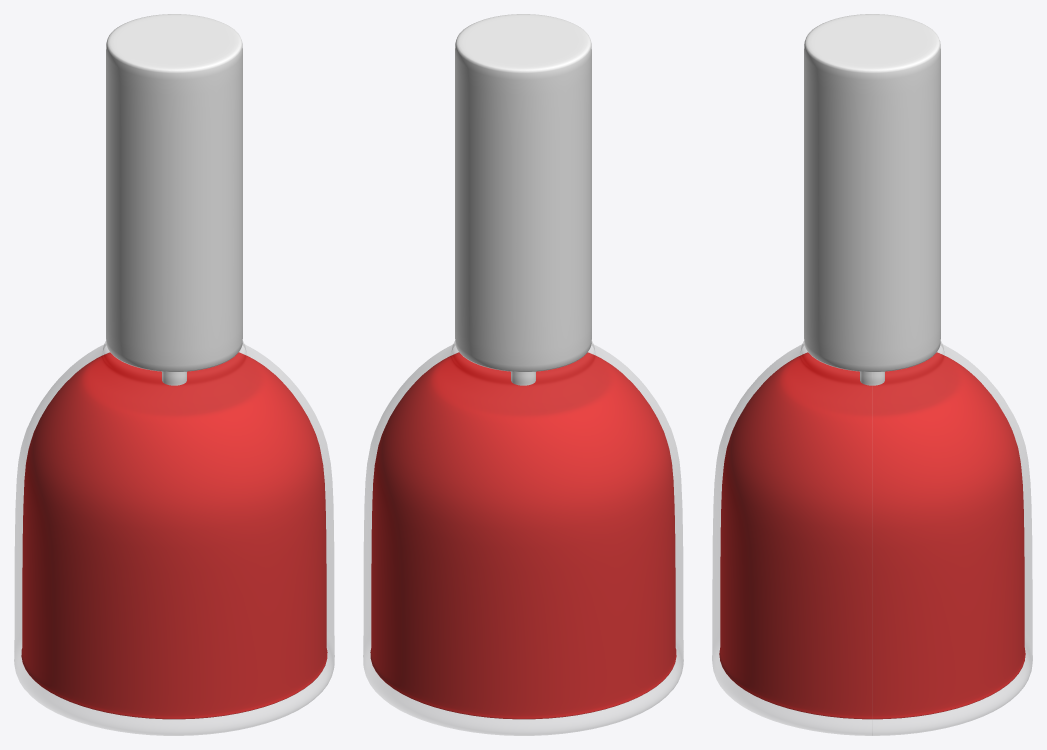
The model's file is nailpolish_v7.glb.
3 renders of one model, left to right at view 1: azimuth 30°, elevation 25°; view 2: azimuth 150°, elevation 25°; view 3: azimuth 270°, elevation 25°, orthographic.
Parts seen in each view (by area): view 1: Circle.009, Circle.010, Circle.011; view 2: Circle.009, Circle.010, Circle.011; view 3: Circle.009, Circle.010, Circle.011.
Boxes of the visible parts, x1,y1,x2,y2 form: Circle.009: (14,341,334,735); Circle.010: (21,352,327,719); Circle.011: (106,14,242,371); Circle.009: (363,341,683,735); Circle.010: (370,352,676,719); Circle.011: (455,14,591,371); Circle.009: (712,341,1032,735); Circle.010: (719,352,1025,719); Circle.011: (804,14,940,371).
Bounding box in the file's own units: 0.089 × 0.193 × 0.089.
